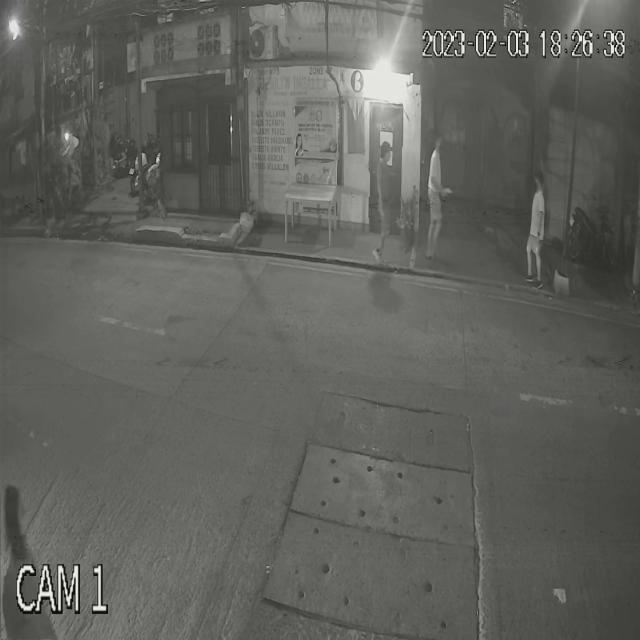human: (426, 133, 452, 260)
trash: (440, 182, 454, 205)
